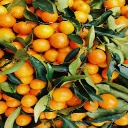orange: (9, 58, 34, 79), (49, 85, 73, 101), (48, 32, 70, 48)
